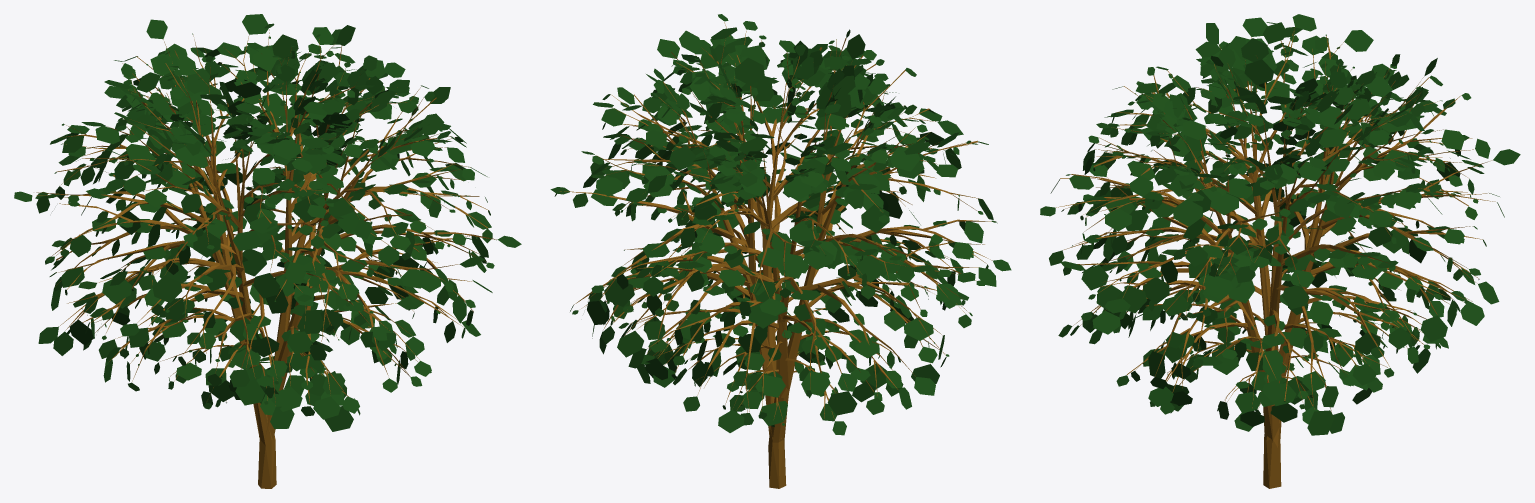
The model's file is BasicTree.fbx.
3 views of the same model, side by side, from view 1: azimuth 30°, elevation 25°; view 2: azimuth 150°, elevation 25°; view 3: azimuth 270°, elevation 25° (orthographic).
Parts seen in each view (by area): view 1: leaves; view 2: leaves; view 3: leaves.
Part boxes in pixels (left/top/right/bottom): leaves: left=14, top=14, right=521, bottom=488; leaves: left=550, top=14, right=1011, bottom=488; leaves: left=1040, top=14, right=1520, bottom=488.
Size of the model in its own units: 1016 by 1077 by 1071.
